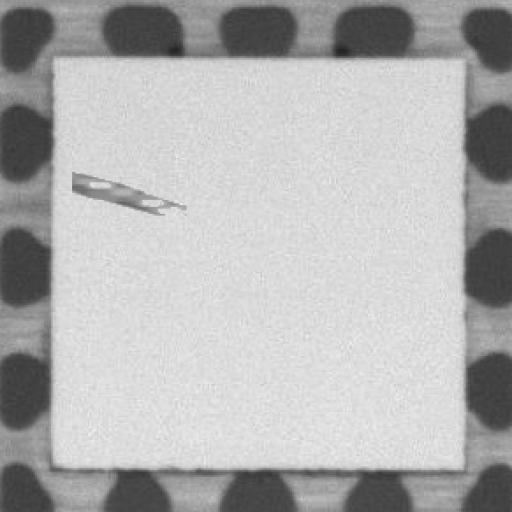DIE_INK: (70, 162, 184, 215)
